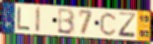7: (77, 9, 95, 36)
B: (57, 8, 77, 36)
C: (99, 11, 118, 37)
I: (34, 6, 42, 34)
L: (16, 6, 32, 31)
Z: (118, 12, 138, 40)
